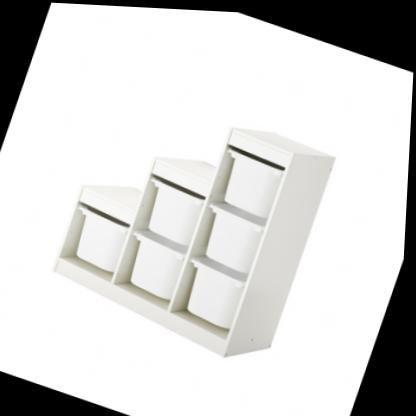Cabinet: (38, 65, 350, 375)
